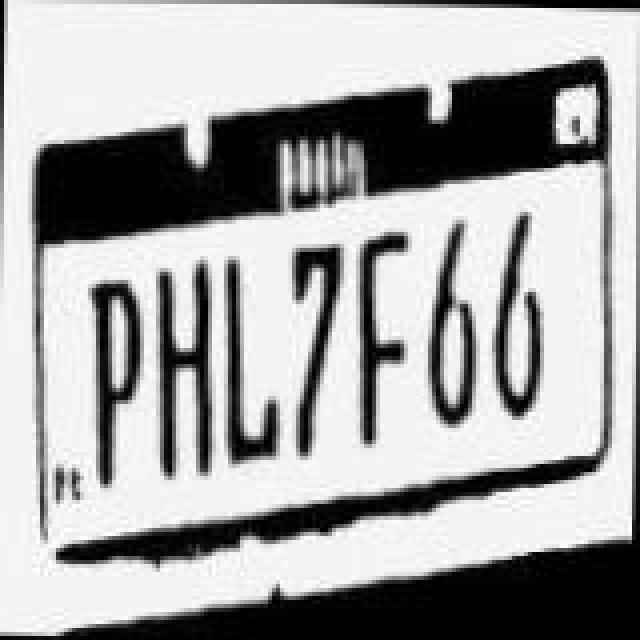6: (424, 214, 484, 426), (490, 208, 546, 416)
7: (290, 244, 346, 464)
F: (352, 232, 412, 448)
H: (154, 262, 218, 482)
L: (224, 254, 284, 466)
P: (84, 278, 148, 490)
